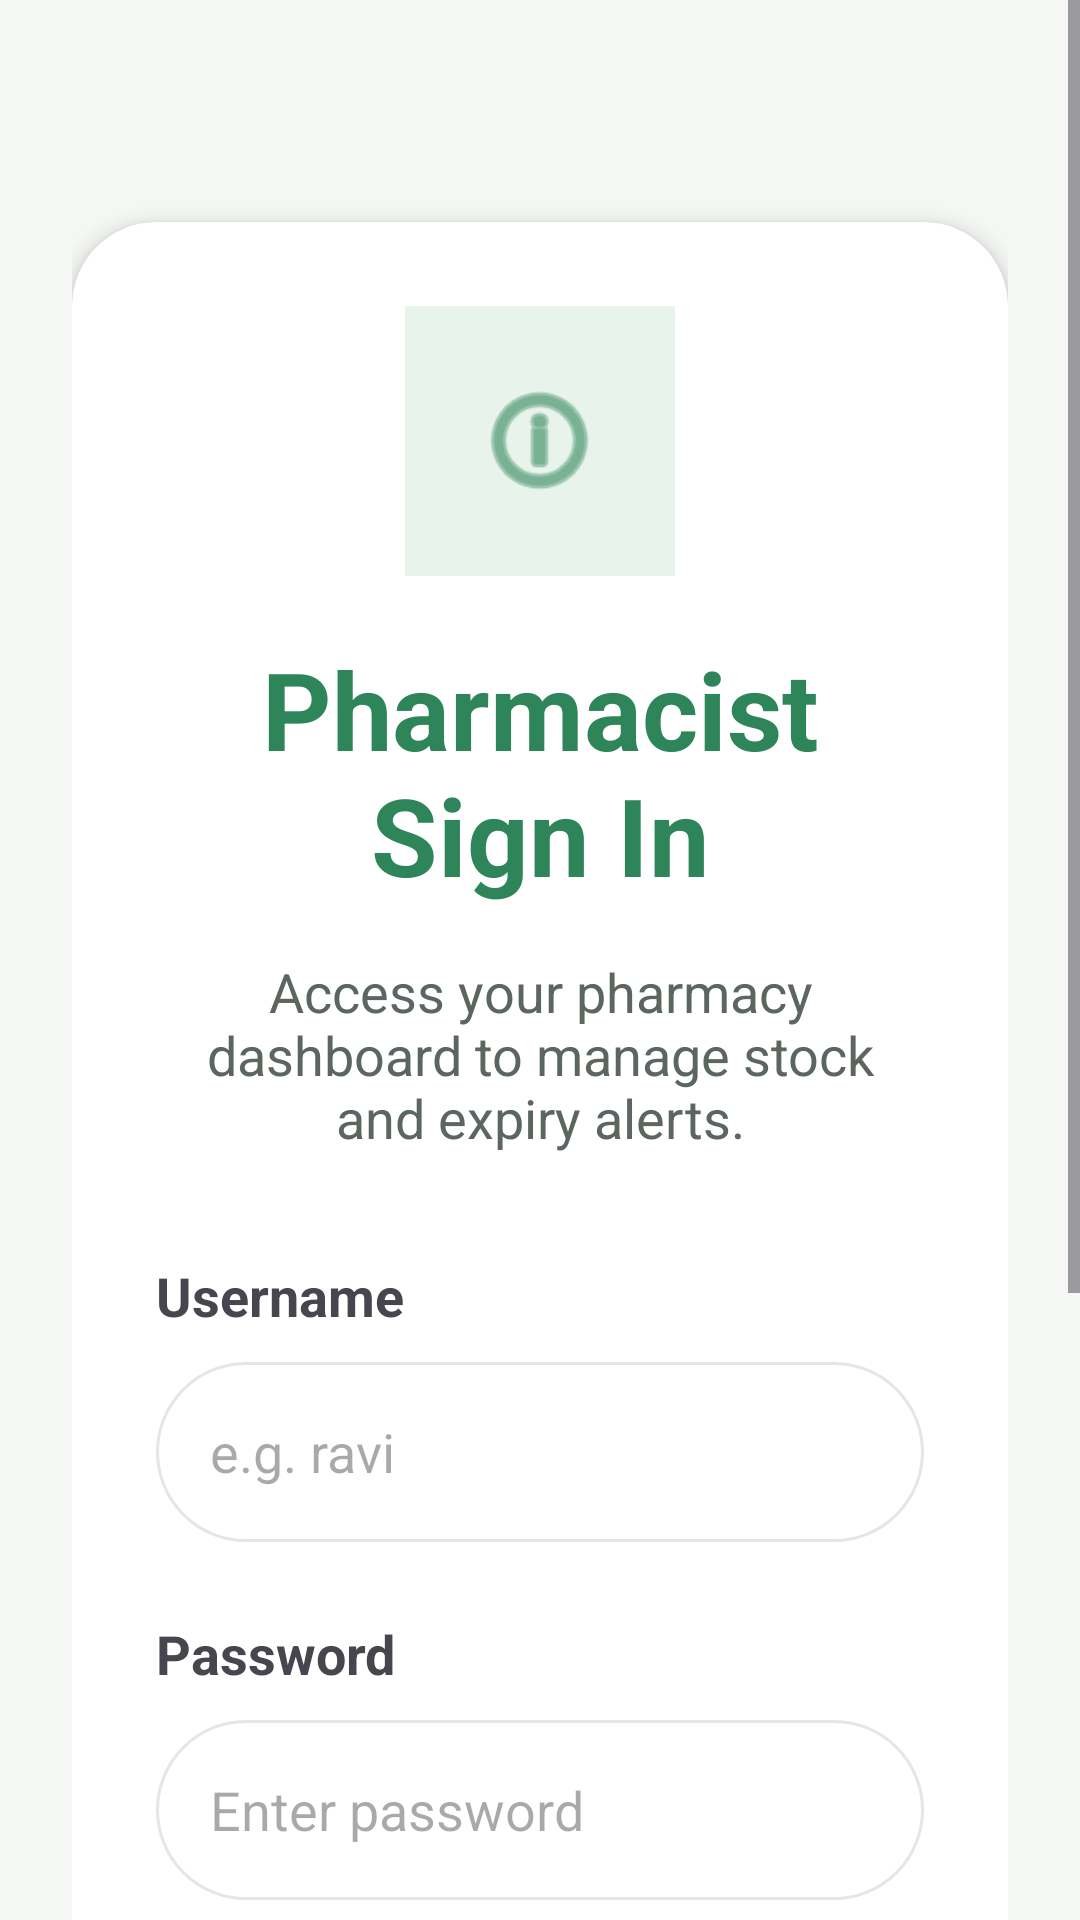

Icon bounding boxes for this 1080x1920 phone screenshot, format (x1, y1, x2, y2):
info details: (491, 392, 588, 489)
